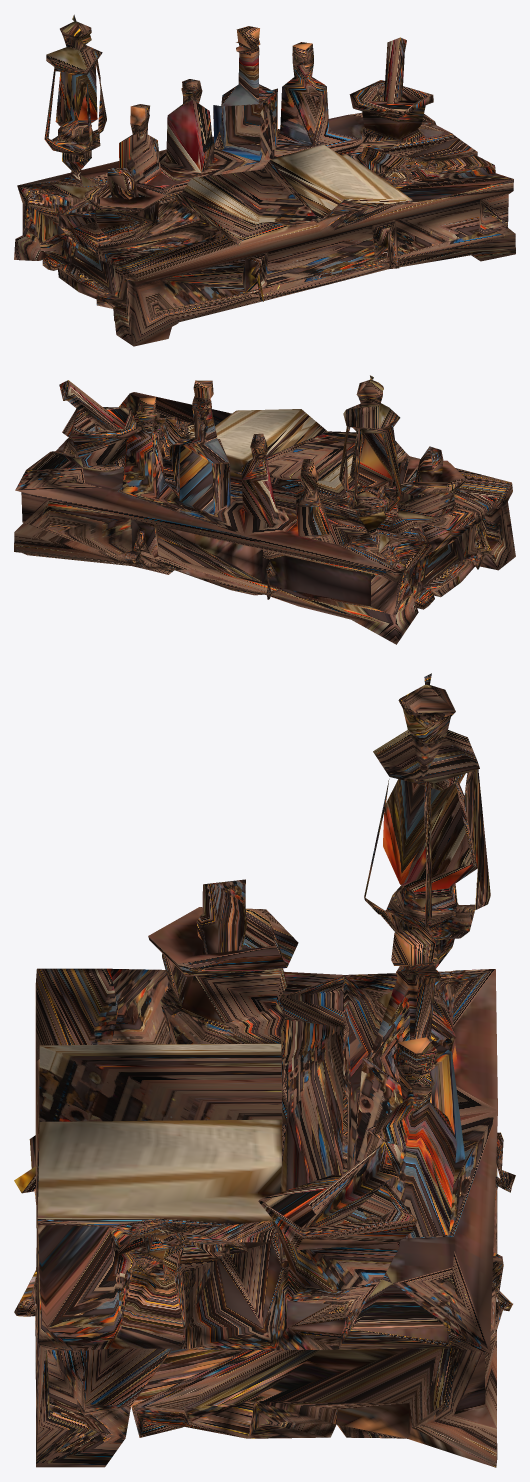
Rendered from bench.glb.
3 views of the same model, one above another, from view 1: azimuth 30°, elevation 25°; view 2: azimuth 150°, elevation 25°; view 3: azimuth 270°, elevation 25° (orthographic). The views are drawn at different scales.
Size of the model in its own units: 1.91 by 1.18 by 1.13.
1 material, 1 textured.
